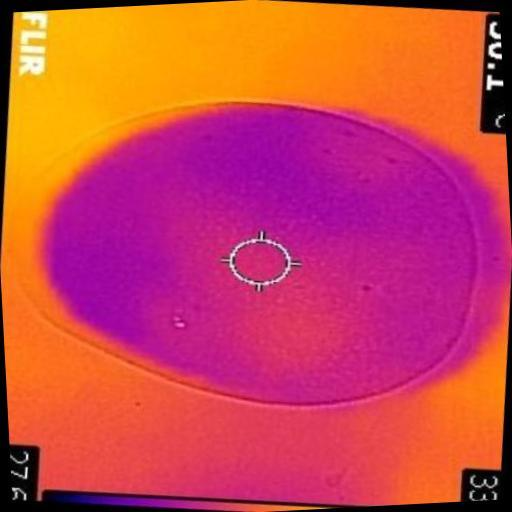alphanso: (11, 103, 482, 405)
